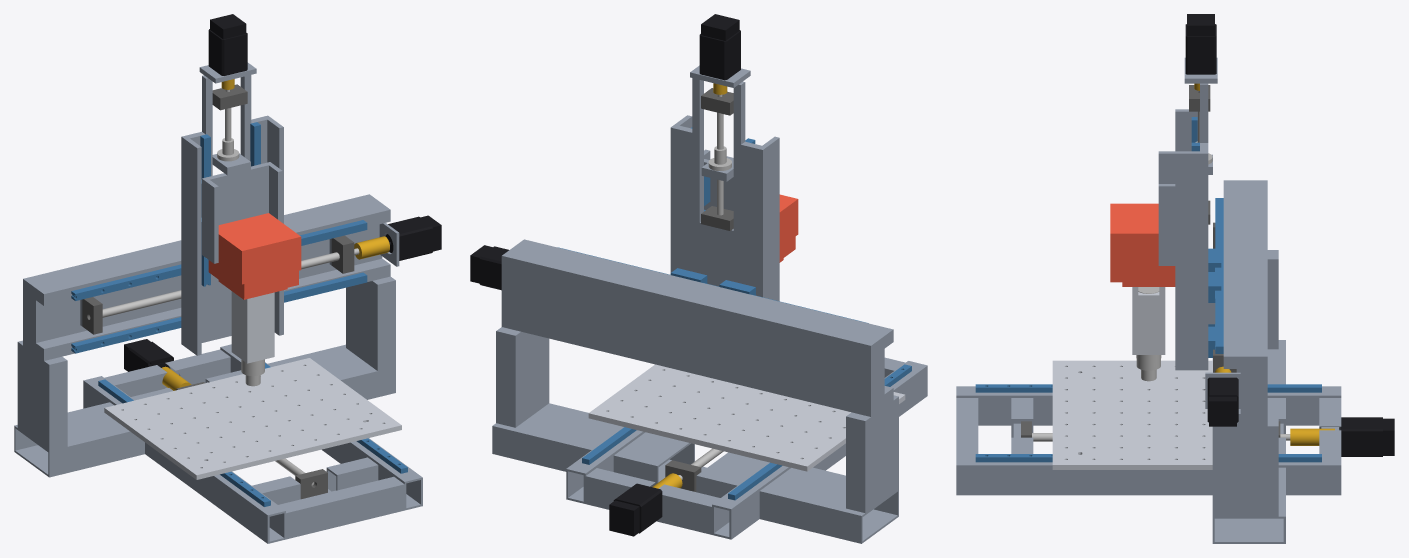
File: A1s_center.glb
The picture shows the model from 3 angles, left to right: view 1: azimuth 30°, elevation 25°; view 2: azimuth 150°, elevation 25°; view 3: azimuth 270°, elevation 25°; orthographic projection. The views are drawn at different scales.
Visible parts, largest first — view 1: table, beam, x_carriage, frame_cross_rear, tooldock_master, z_slide, upright_L, frame_cross_front, frame_longeron_L, upright_R, head_mount, frame_cross_end (+18 smaller); view 2: beam, frame_cross_rear, table, x_carriage, upright_L, upright_R, frame_longeron_L, frame_cross_end, z_motor, y_motor, frame_longeron_R, x_motor (+8 smaller); view 3: table, beam, frame_longeron_R, x_carriage, upright_R, tooldock_master, frame_cross_rear, frame_longeron_L, head_mount, y_motor, z_slide, z_motor (+10 smaller).
Part boxes in pixels (box(x1,y1,x2,y2)): table: box(104, 358, 401, 479); beam: box(23, 194, 390, 360); x_carriage: box(181, 75, 283, 355); frame_cross_rear: box(14, 344, 395, 477); tooldock_master: box(208, 213, 301, 298); z_slide: box(202, 162, 282, 263); upright_L: box(17, 340, 67, 451); frame_cross_front: box(278, 476, 404, 539); frame_longeron_L: box(83, 376, 285, 543); upright_R: box(346, 276, 395, 370); head_mount: box(231, 291, 274, 363); frame_cross_end: box(104, 349, 230, 396); beam: box(501, 239, 893, 416); frame_cross_rear: box(492, 403, 898, 543); table: box(588, 364, 905, 471); x_carriage: box(670, 78, 779, 301); upright_L: box(846, 395, 898, 513); upright_R: box(496, 327, 549, 427); frame_longeron_L: box(712, 361, 927, 539); frame_cross_end: box(585, 468, 720, 534); z_motor: box(699, 14, 740, 80); y_motor: box(609, 483, 662, 536); frame_longeron_R: box(566, 427, 645, 503); x_motor: box(470, 245, 508, 290); table: box(1052, 360, 1212, 469); beam: box(1223, 180, 1267, 426); frame_longeron_R: box(956, 456, 1341, 495); x_carriage: box(1175, 83, 1208, 370); upright_R: box(1212, 417, 1278, 516); tooldock_master: box(1110, 203, 1175, 282); frame_cross_rear: box(1212, 340, 1285, 543); frame_longeron_L: box(956, 386, 1341, 425); head_mount: box(1132, 287, 1165, 354); y_motor: box(1340, 417, 1394, 456); z_slide: box(1158, 151, 1175, 265); z_motor: box(1185, 14, 1216, 74).
Size of the model in its own units: 857 by 875 by 797.
